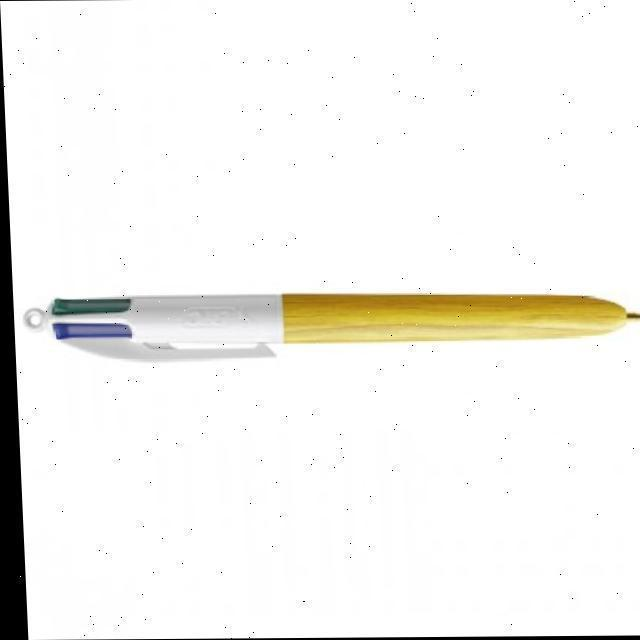pen: (17, 289, 640, 365)
